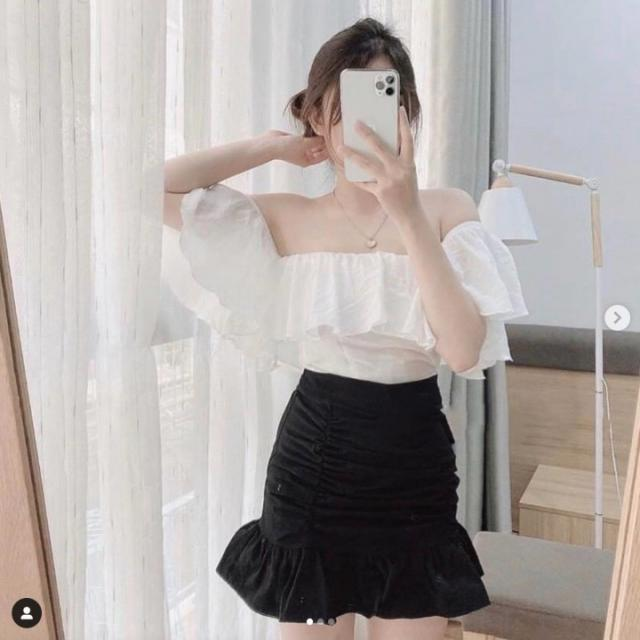clothes: (195, 172, 520, 623)
